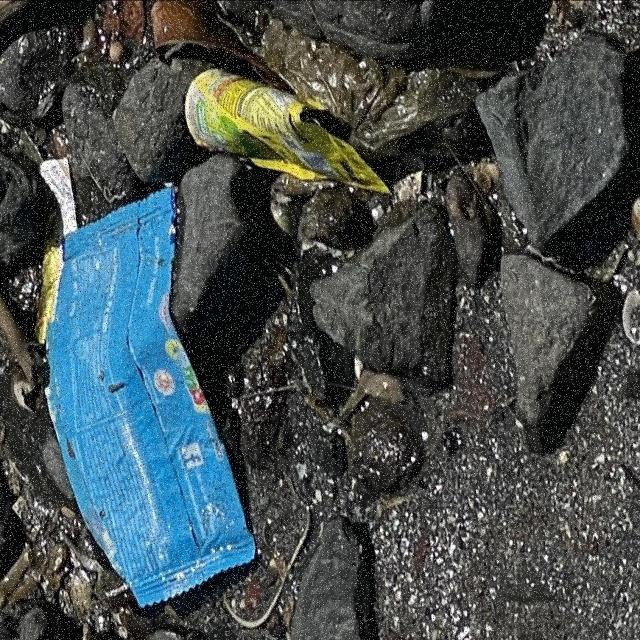plastic_waste: (39, 180, 263, 606), (186, 73, 394, 201)
